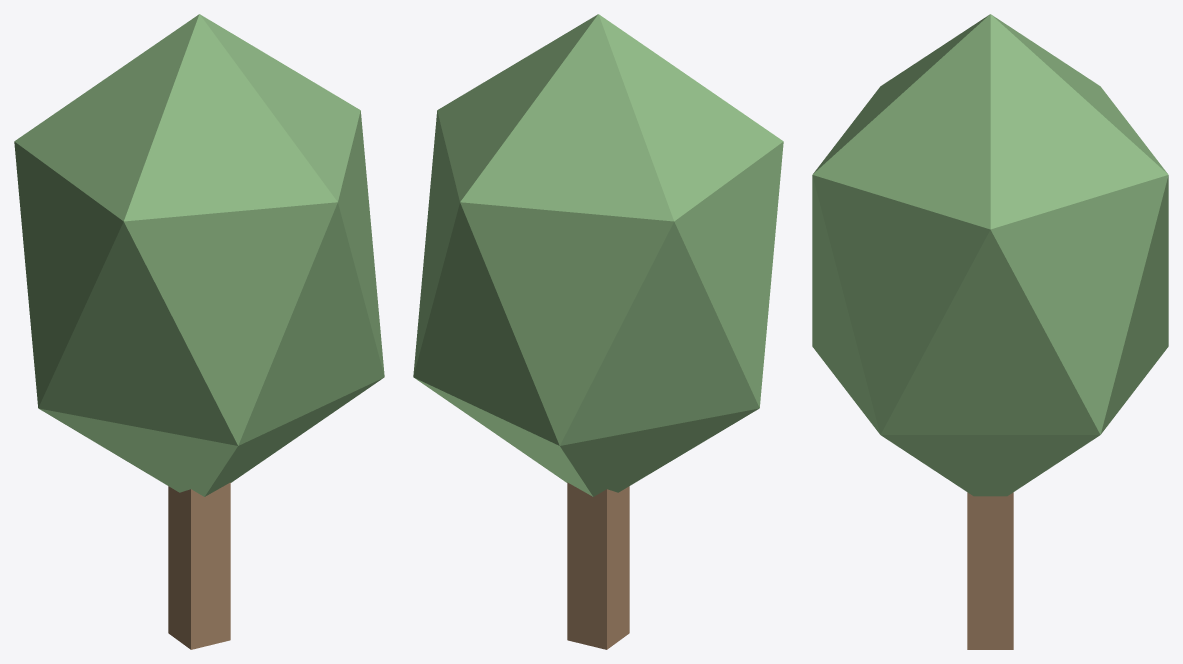
The model's file is rescue-tree.glb.
3 views of the same model, side by side, from view 1: azimuth 30°, elevation 25°; view 2: azimuth 150°, elevation 25°; view 3: azimuth 270°, elevation 25° (orthographic).
Parts seen in each view (by area): view 1: Icosphere.002, trunk.001; view 2: Icosphere.002, trunk.001; view 3: Icosphere.002, trunk.001.
Boxes of the visible parts, x1,y1,x2,y2 form: Icosphere.002: (14, 14, 384, 496); trunk.001: (168, 482, 230, 649); Icosphere.002: (413, 14, 783, 496); trunk.001: (567, 482, 629, 649); Icosphere.002: (812, 14, 1168, 496); trunk.001: (967, 492, 1013, 649).
Size of the model in its own units: 1.79 by 3.3 by 1.7.
